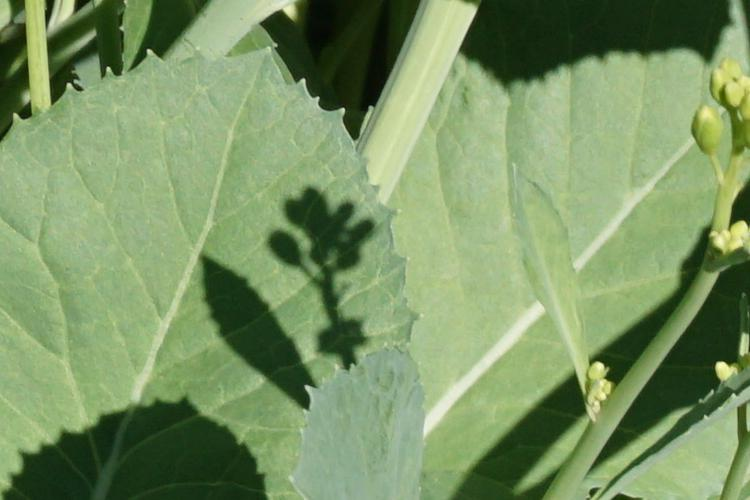bud: (692, 104, 725, 156), (708, 71, 733, 107), (722, 57, 743, 83), (589, 385, 612, 408), (709, 237, 726, 265), (728, 83, 744, 112), (718, 360, 735, 385), (732, 219, 748, 245), (591, 363, 612, 379), (718, 225, 731, 242), (706, 230, 717, 240)
